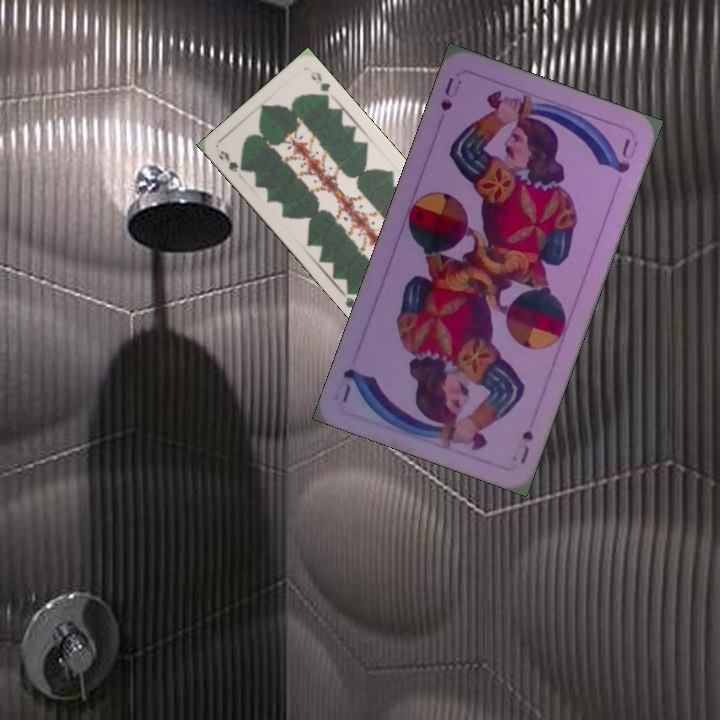G9: (214, 146, 249, 175)
SU: (436, 73, 465, 115), (515, 426, 536, 467)
